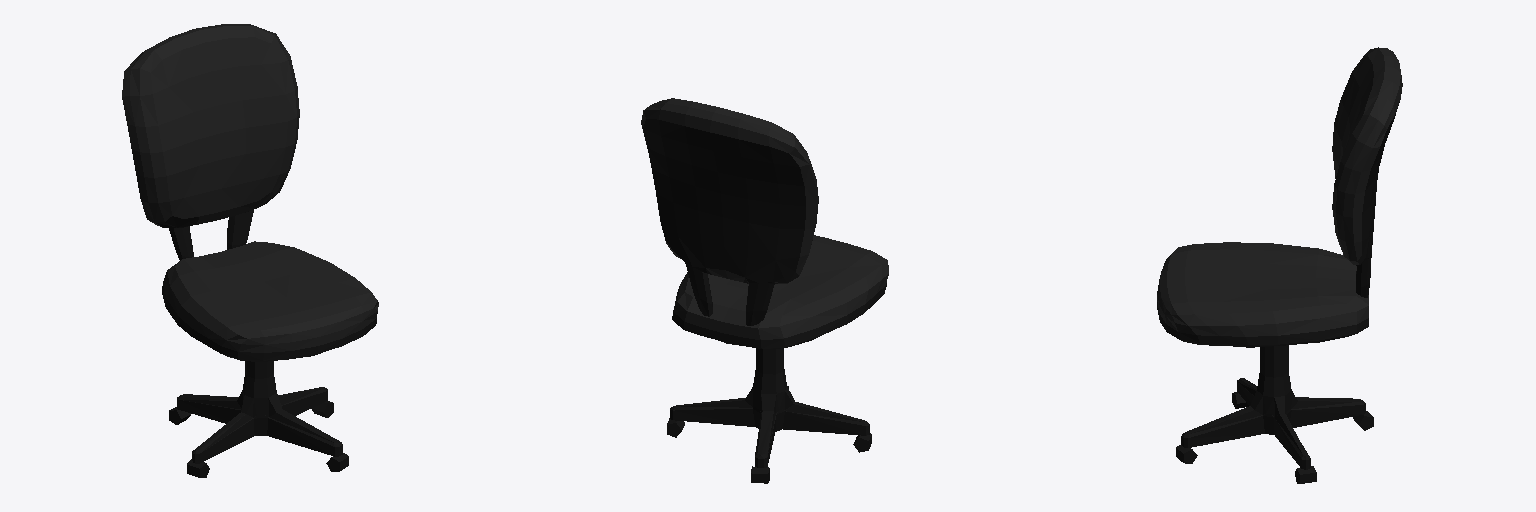
Rendered from chair.obj.
The picture shows the model from 3 angles: view 1: azimuth 30°, elevation 25°; view 2: azimuth 150°, elevation 25°; view 3: azimuth 270°, elevation 25°; orthographic projection.
Parts seen in each view (by area): view 1: Cube.021_Cube.030; view 2: Cube.021_Cube.030; view 3: Cube.021_Cube.030.
Part boxes in pixels (x1,y1,x2,y2): Cube.021_Cube.030: (122,24,378,477); Cube.021_Cube.030: (641,98,888,483); Cube.021_Cube.030: (1157,47,1402,483).
Size of the model in its own units: 0.4642 by 0.9466 by 0.5598.